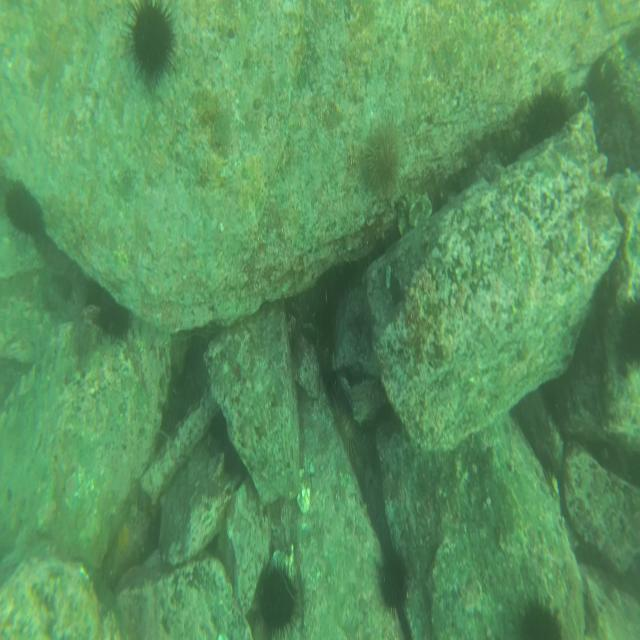echinus: (126, 1, 176, 85), (258, 561, 298, 632), (365, 122, 403, 194), (5, 183, 42, 237), (379, 550, 410, 607), (521, 599, 564, 640), (530, 97, 568, 143), (97, 298, 131, 344), (621, 299, 640, 361), (209, 412, 229, 448)
